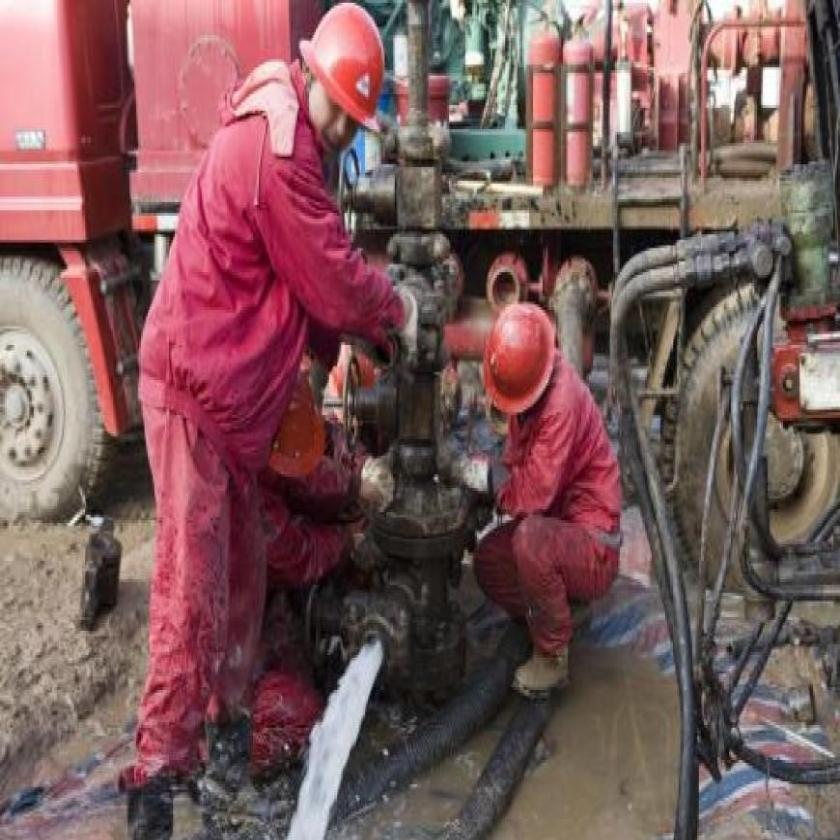Con_casco: (295, 1, 398, 175), (479, 298, 567, 421), (257, 370, 339, 487)
